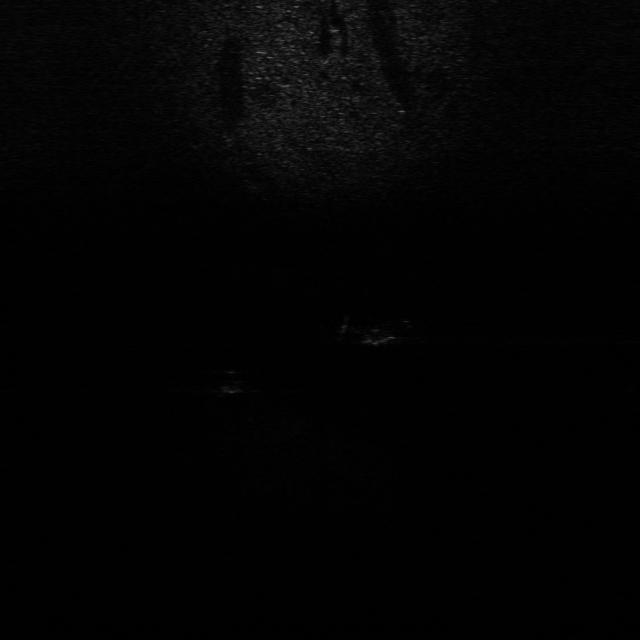ball: (213, 368, 248, 396)
human body: (329, 311, 427, 353)
